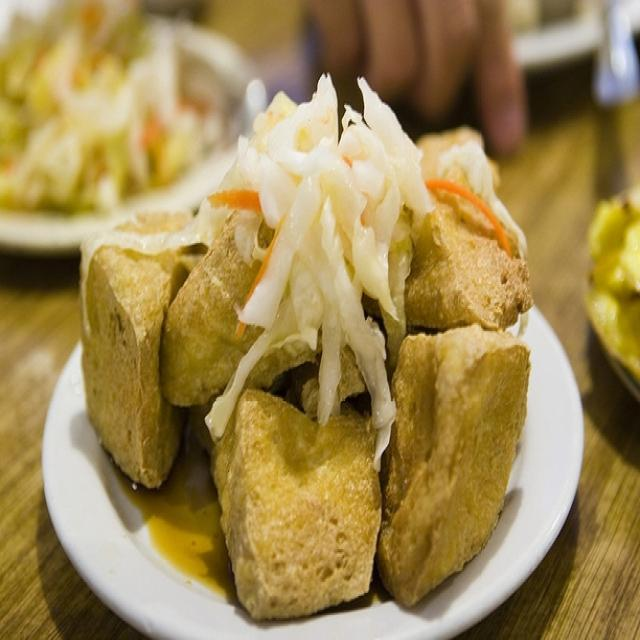豆腐料理: (42, 100, 586, 630)
